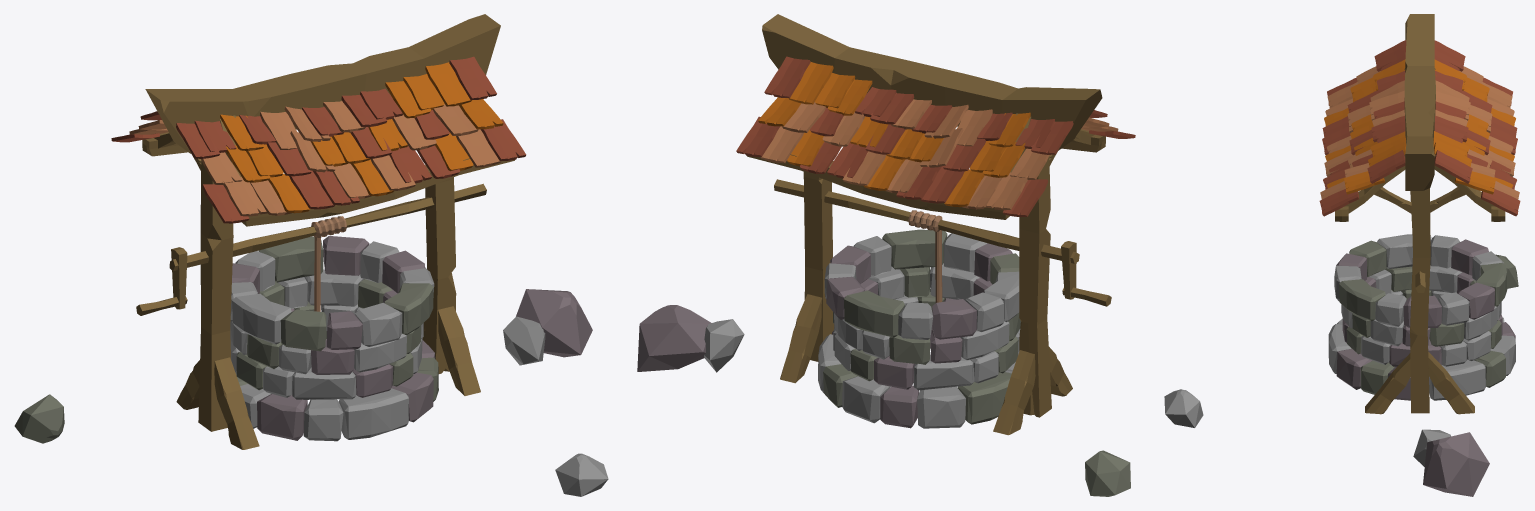
File: well.glb
3 views of the same model, side by side, from view 1: azimuth 30°, elevation 25°; view 2: azimuth 150°, elevation 25°; view 3: azimuth 270°, elevation 25° (orthographic). The views are drawn at different scales.
Parts seen in each view (by area): view 1: Cube.016, Cube.021, Cube.013, Cube.015, Cube.018, Cube.014, Cube.019, Cube.017, Icosphere.003, Cube.038, Cube.023, Icosphere.002 (+42 smaller); view 2: Cube.016, Cube.021, Cube.013, Cube.015, Cube.018, Cube.014, Cube.019, Icosphere.003, Cube.017, Cube.038, Cube.023, Icosphere.002 (+43 smaller); view 3: Cube.016, Cube.021, Cube.013, Cube.015, Cube.017, Icosphere.003, Cube.014, Cube.019, Cube.037, Cube.065, Icosphere, Cube.022 (+33 smaller).
Part boxes in pixels (x1=…): Cube.016: x1=230, y1=236, x2=434, y2=351; Cube.021: x1=145, y1=14, x2=500, y2=153; Cube.013: x1=236, y1=331, x2=438, y2=441; Cube.015: x1=230, y1=269, x2=423, y2=374; Cube.018: x1=198, y1=152, x2=233, y2=431; Cube.014: x1=230, y1=301, x2=422, y2=399; Cube.019: x1=176, y1=306, x2=480, y2=449; Cube.017: x1=425, y1=177, x2=456, y2=373; Icosphere.003: x1=516, y1=289, x2=592, y2=357; Cube.038: x1=169, y1=183, x2=486, y2=270; Cube.023: x1=142, y1=129, x2=514, y2=226; Icosphere.002: x1=14, y1=394, x2=64, y2=443; Cube.016: x1=824, y1=229, x2=1019, y2=339; Cube.021: x1=762, y1=14, x2=1102, y2=150; Cube.013: x1=818, y1=323, x2=1015, y2=428; Cube.015: x1=833, y1=263, x2=1020, y2=364; Cube.018: x1=1019, y1=156, x2=1051, y2=417; Cube.014: x1=833, y1=289, x2=1020, y2=390; Cube.019: x1=780, y1=294, x2=1072, y2=435; Icosphere.003: x1=637, y1=305, x2=711, y2=371; Cube.017: x1=803, y1=172, x2=833, y2=361; Cube.038: x1=774, y1=179, x2=1079, y2=263; Cube.023: x1=747, y1=126, x2=1105, y2=219; Icosphere.002: x1=1085, y1=450, x2=1130, y2=496; Cube.016: x1=1334, y1=234, x2=1507, y2=327; Cube.021: x1=1404, y1=14, x2=1435, y2=190; Cube.013: x1=1328, y1=317, x2=1515, y2=400; Cube.015: x1=1341, y1=265, x2=1501, y2=346; Cube.017: x1=1410, y1=188, x2=1430, y2=413; Icosphere.003: x1=1423, y1=432, x2=1489, y2=496; Cube.014: x1=1342, y1=289, x2=1502, y2=366; Cube.019: x1=1365, y1=352, x2=1474, y2=414; Cube.037: x1=1367, y1=150, x2=1472, y2=183; Cube.065: x1=1319, y1=189, x2=1520, y2=216; Icosphere: x1=1164, y1=389, x2=1203, y2=427; Cube.022: x1=1344, y1=68, x2=1495, y2=213.
Size of what is drawn, in the model's own units: 6.23 by 4.15 by 4.34.
